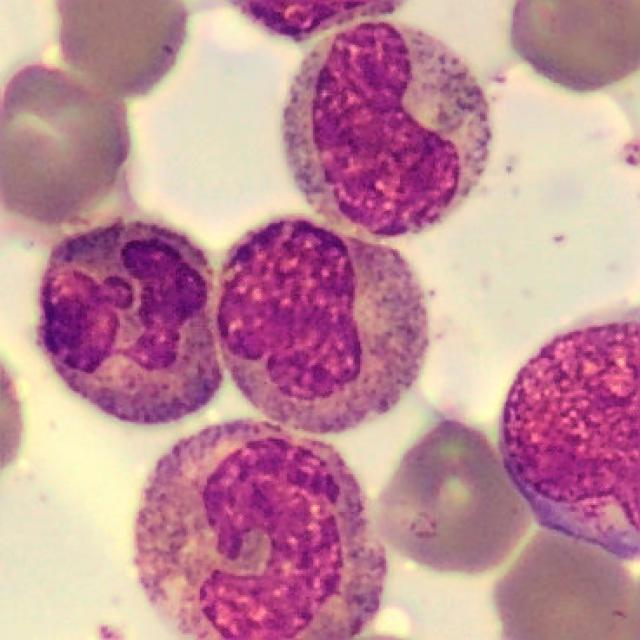Bastonete: (132, 419, 388, 640)
Metamielocito: (283, 19, 490, 239)
Neutrofilo segmentado: (213, 215, 427, 432), (34, 214, 221, 431)
